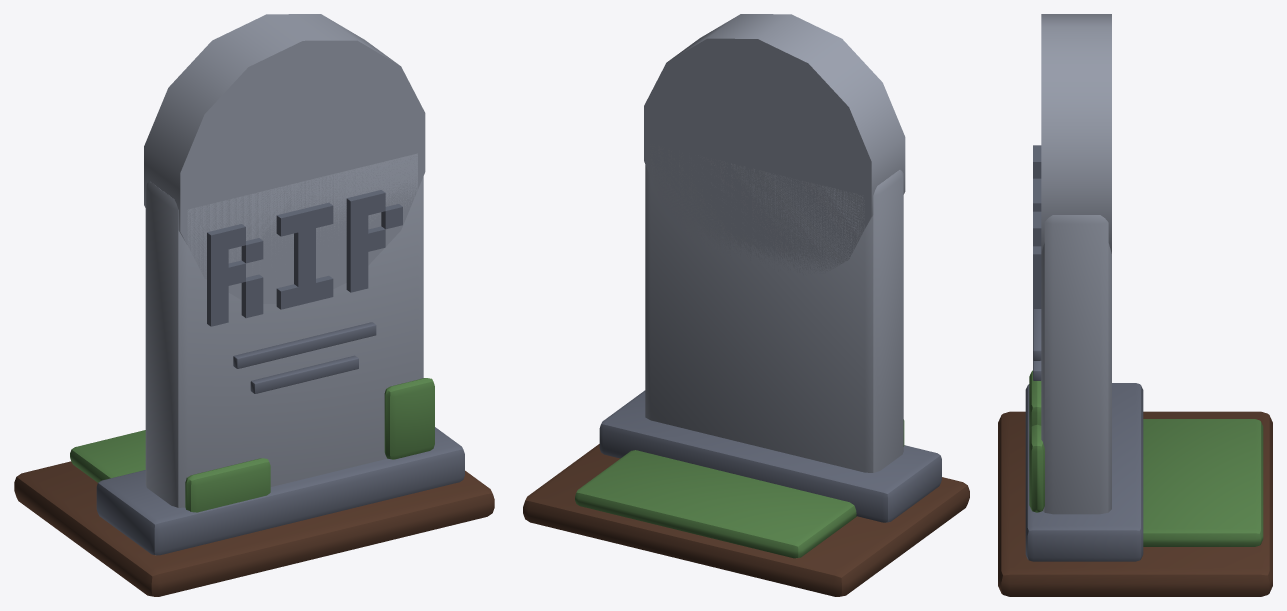
The model's file is prop_05_gravestone_round.glb.
The picture shows the model from 3 angles, left to right: view 1: azimuth 30°, elevation 25°; view 2: azimuth 150°, elevation 25°; view 3: azimuth 270°, elevation 25°; orthographic projection. The views are drawn at different scales.
Visible parts, largest first — view 1: Prop; view 2: Prop; view 3: Prop.
Part boxes in pixels (x1=…): Prop: x1=14, y1=14, x2=494, y2=596; Prop: x1=523, y1=14, x2=969, y2=596; Prop: x1=998, y1=14, x2=1272, y2=596.
Bounding box in the file's own units: 1 × 1.38 × 0.7.
Materials: 1 (1 with a texture image).
